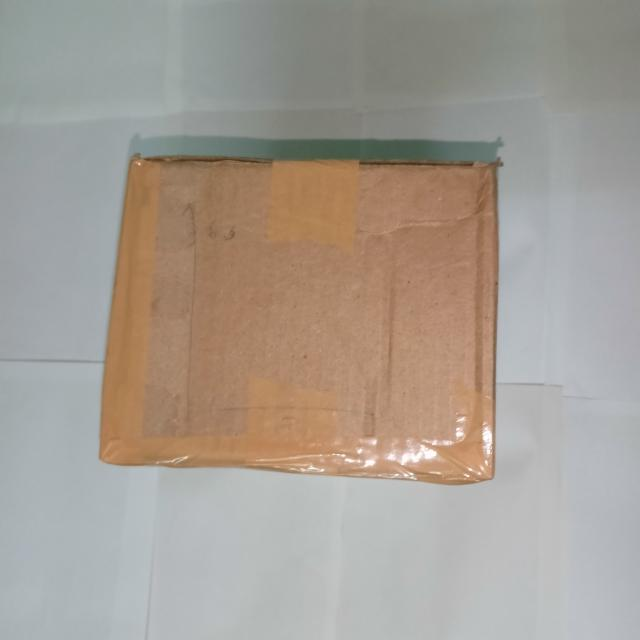box: (99, 161, 499, 476)
